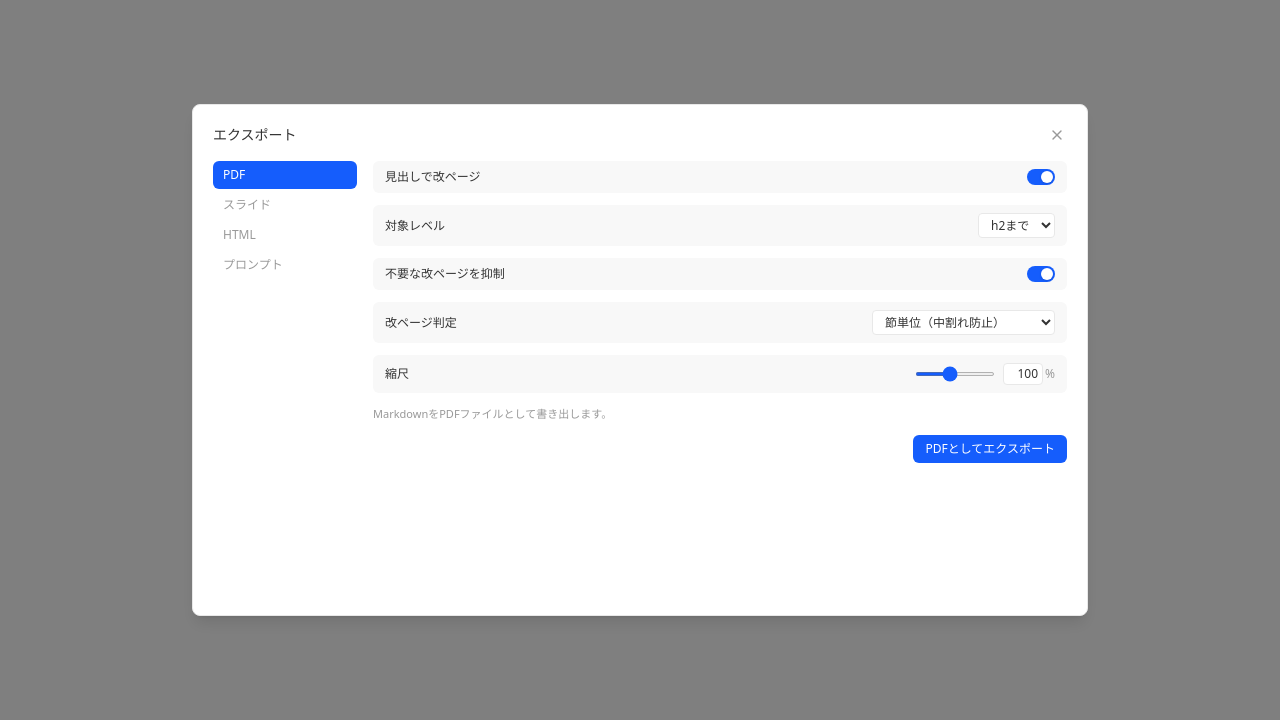
Test case: ExportDialog › 開閉・セクション切り替え › タブクリックでプロンプトセクションに切り替わる
Click the button "プロンプト" at (285, 265), box [213,251,357,279]
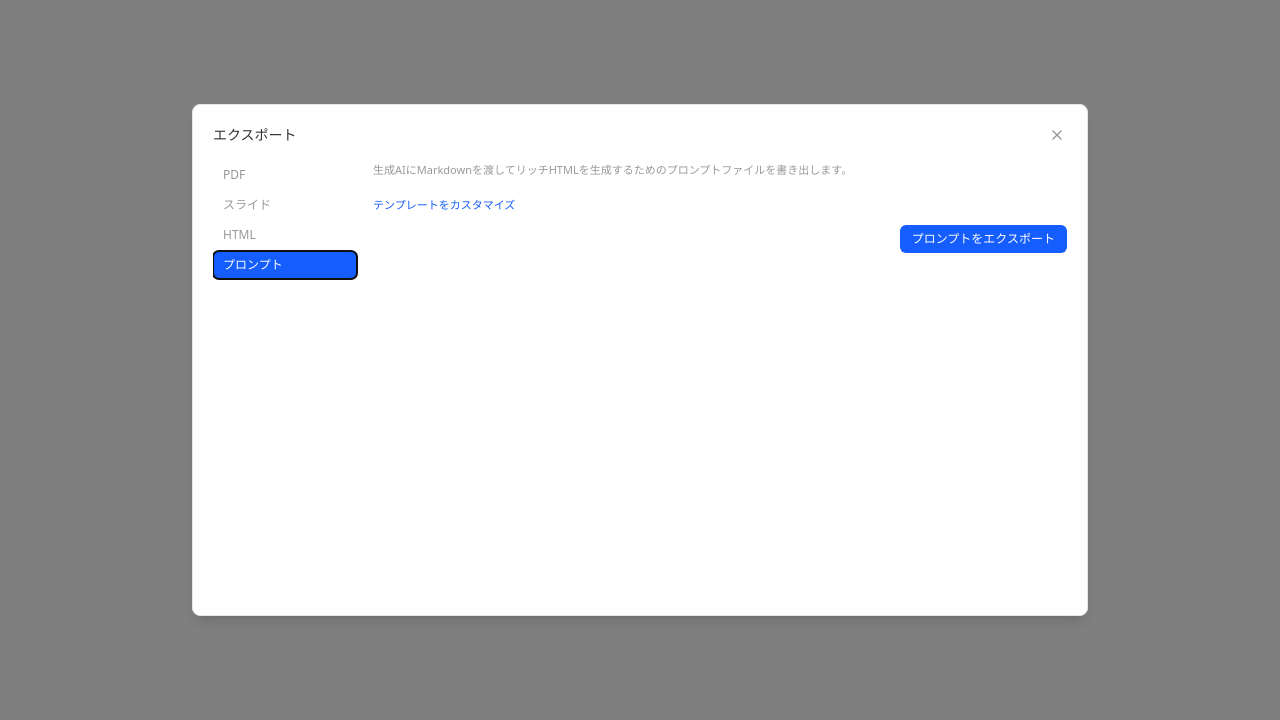
Expected: the button "プロンプトをエクスポート" is shown, [900,225,1067,253]
